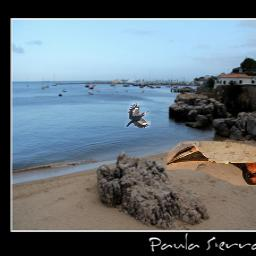Swallow: (168, 142, 256, 187)
Woodpecker: (126, 102, 152, 129)
